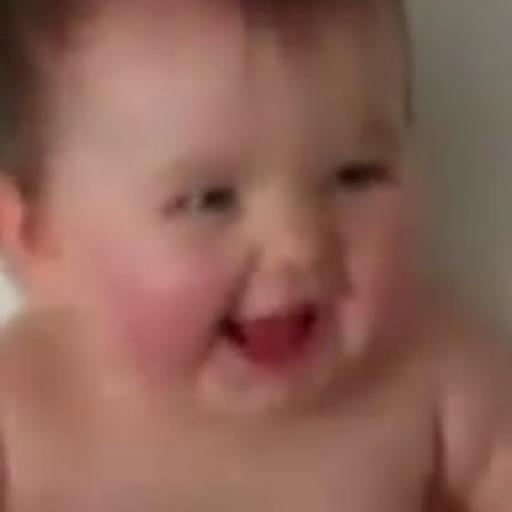Autism: (16, 22, 448, 460)
